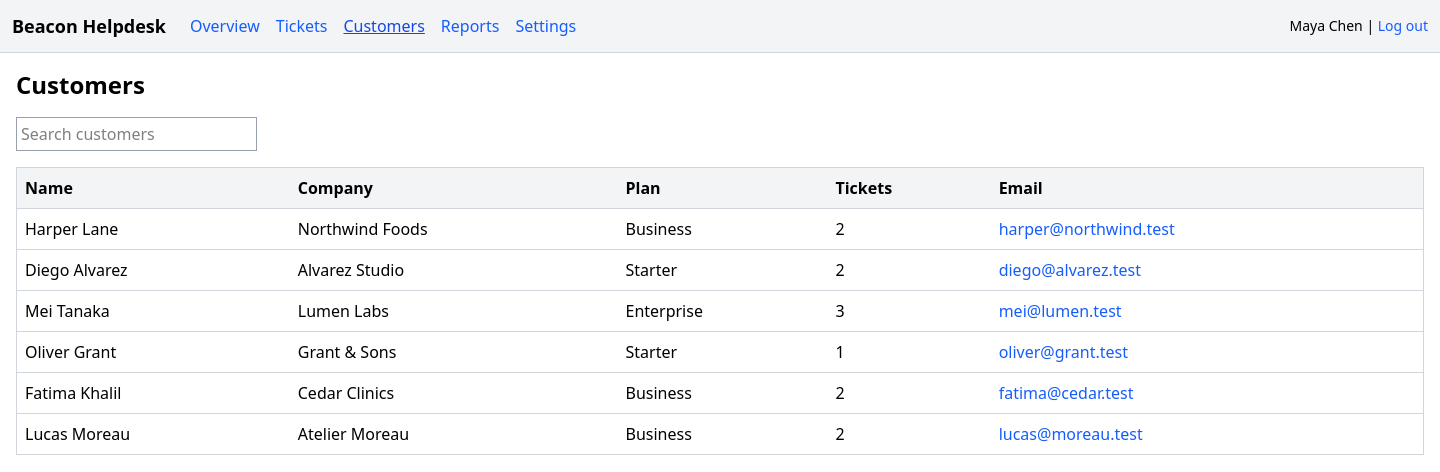
Scenario: customers and reports › searches customers
Check: the text "Northwind Foods" is shown, box top-left (290, 208), bottom-right (618, 250)
Type "lumen" into the search field labelled "Search customers". click: (136, 134)
box: top-left (16, 117), bottom-right (257, 151)
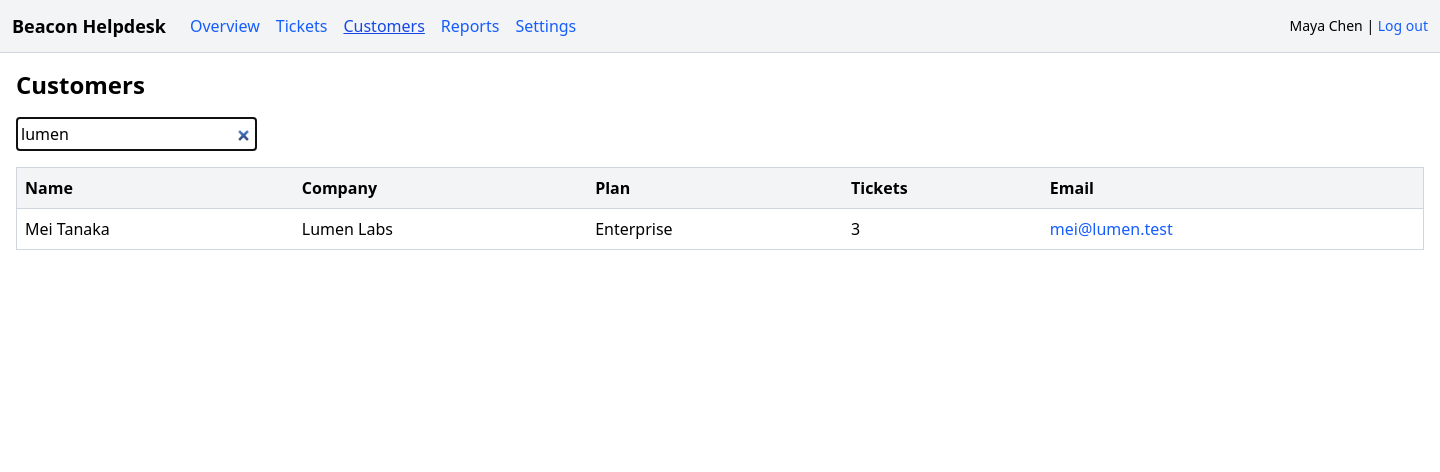
Check: the text "Lumen Labs" is shown, box top-left (294, 208), bottom-right (587, 250)
Check: the text "Northwind Foods" is gone
Replace the text in the search field named "Search customers" with "zzz". click: (136, 134)
box: top-left (16, 117), bottom-right (257, 151)
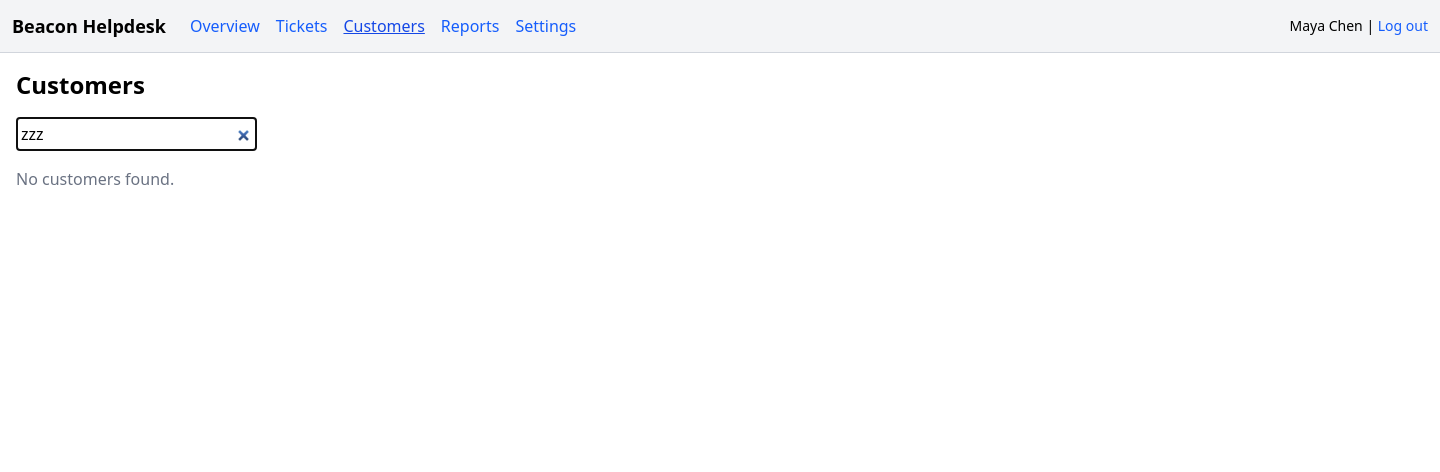
Check: the text "No customers found." is shown, box top-left (16, 168), bottom-right (174, 190)
